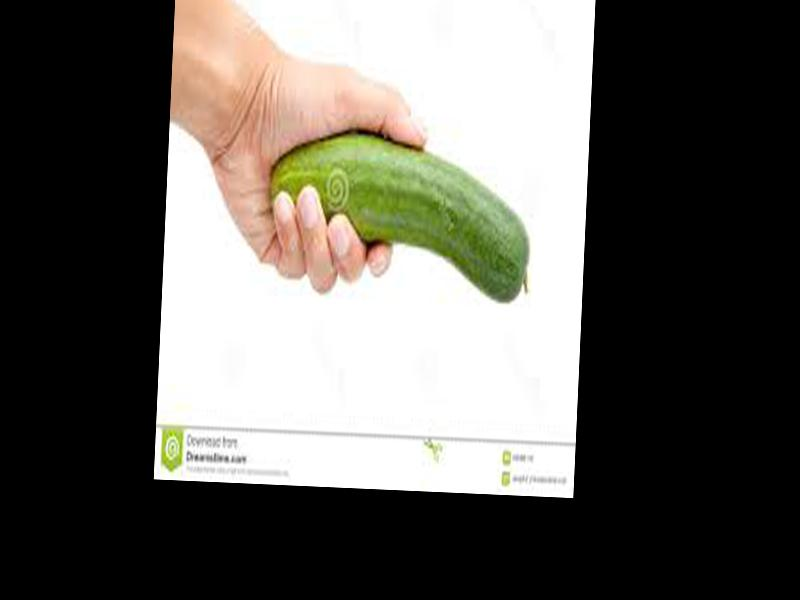Cucumber: (265, 133, 535, 304)
